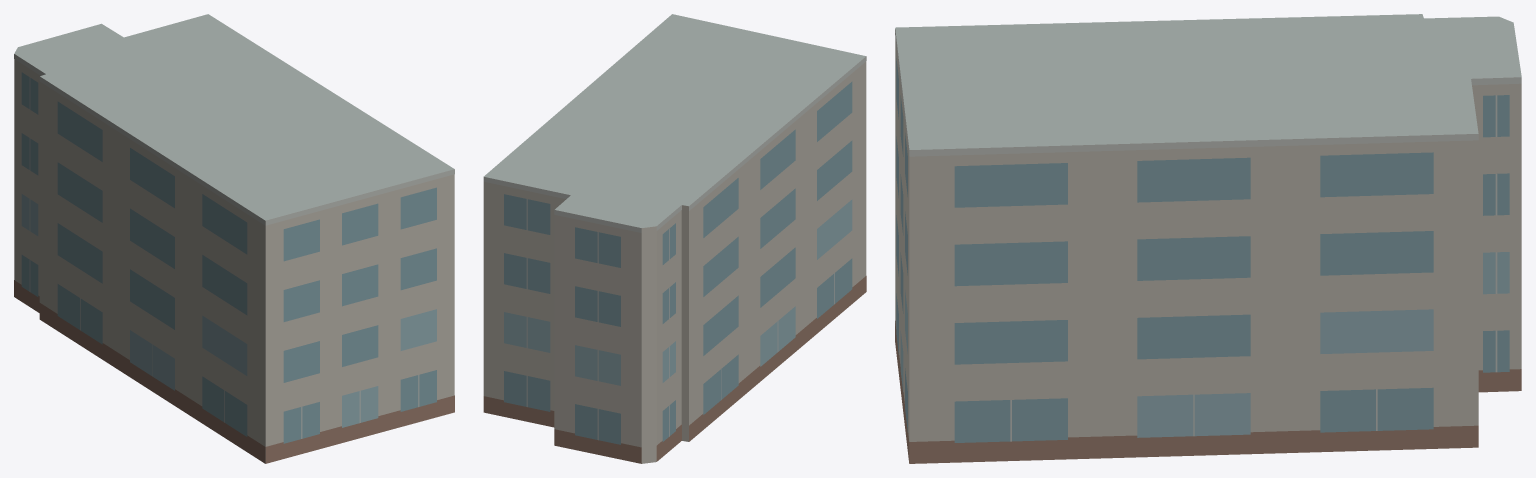
The model's file is survey-upis-32662682.glb.
3 renders of one model, left to right at view 1: azimuth 30°, elevation 25°; view 2: azimuth 150°, elevation 25°; view 3: azimuth 270°, elevation 25°, orthographic. The views are drawn at different scales.
Parts seen in each view (by area): view 1: survey-upis-32662682.tmp; view 2: survey-upis-32662682.tmp; view 3: survey-upis-32662682.tmp.
Part boxes in pixels (box(x1,y1,x2,y2)): survey-upis-32662682.tmp: box(14, 14, 454, 463); survey-upis-32662682.tmp: box(483, 14, 866, 463); survey-upis-32662682.tmp: box(895, 14, 1521, 463).
Bounding box in the file's own units: 10.89 × 11.7 × 21.19.
